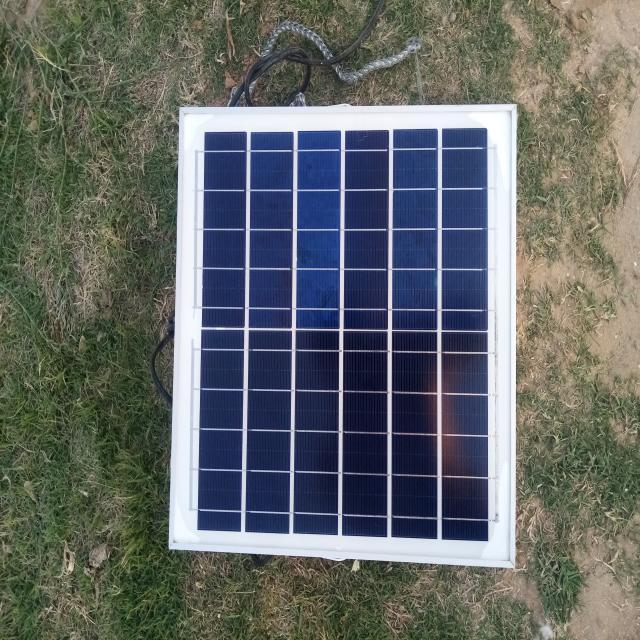no faulty: (171, 109, 517, 568)
